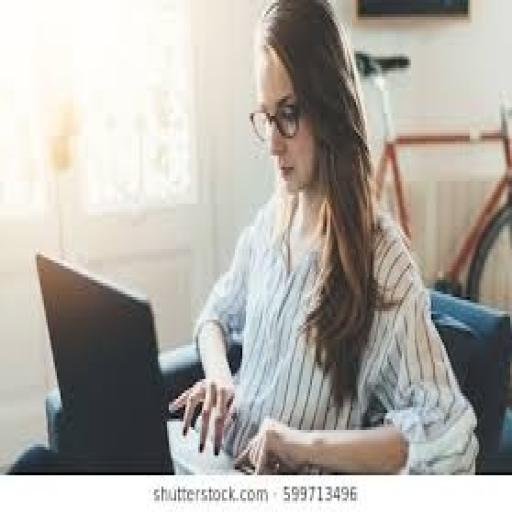using_laptop: (31, 246, 176, 472)
